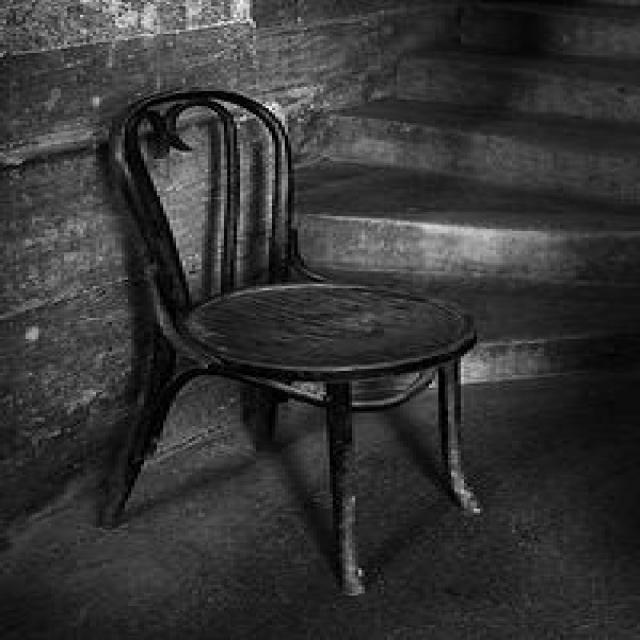chair: (104, 88, 486, 598)
